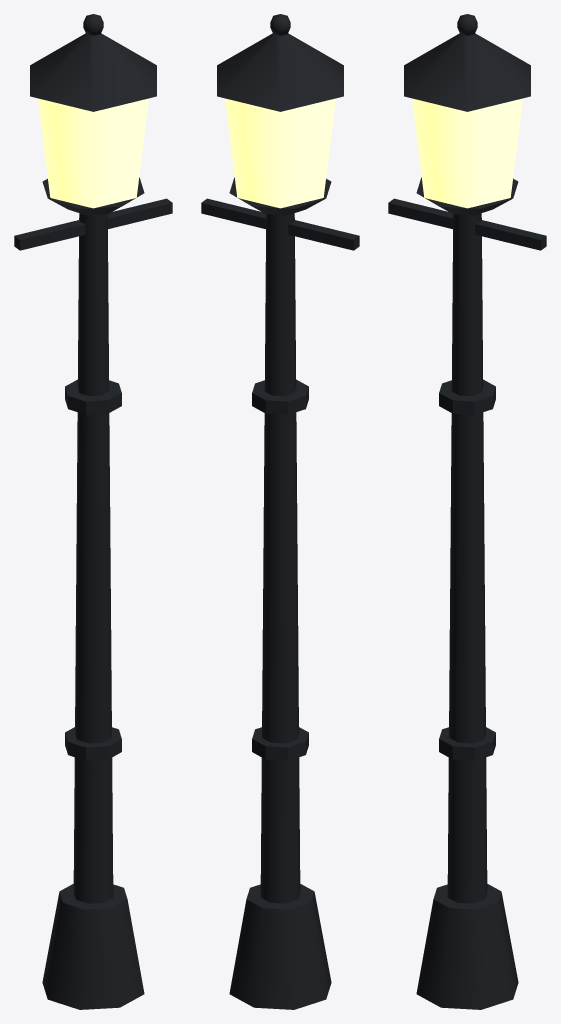
File: ge_gas_lamp.glb
3 renders of one model, left to right at view 1: azimuth 30°, elevation 25°; view 2: azimuth 150°, elevation 25°; view 3: azimuth 330°, elevation 25°, orthographic.
Visible parts, largest first — view 1: ge_gas_lamp; view 2: ge_gas_lamp; view 3: ge_gas_lamp.
Boxes of the visible parts, box(x1,y1,x2,y2) form: ge_gas_lamp: box(14, 14, 172, 1009); ge_gas_lamp: box(201, 14, 359, 1009); ge_gas_lamp: box(388, 14, 546, 1009).
Bounding box in the file's own units: 0.6 × 3.66 × 0.433.
